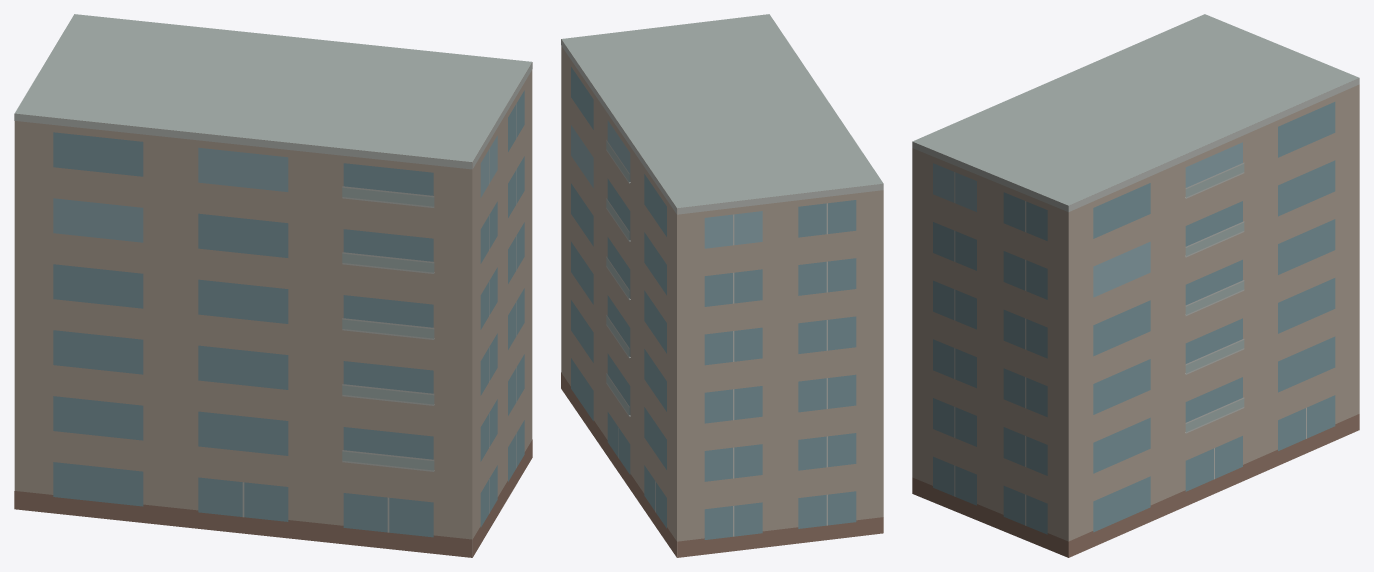
The model's file is survey-upis-32892569.glb.
The picture shows the model from 3 angles, left to right: view 1: azimuth 30°, elevation 25°; view 2: azimuth 150°, elevation 25°; view 3: azimuth 270°, elevation 25°; orthographic projection. The views are drawn at different scales.
Parts seen in each view (by area): view 1: survey-upis-32892569.tmp; view 2: survey-upis-32892569.tmp; view 3: survey-upis-32892569.tmp.
Part boxes in pixels (x1,y1,x2,y2): survey-upis-32892569.tmp: (14,14,532,557); survey-upis-32892569.tmp: (561,14,883,557); survey-upis-32892569.tmp: (912,14,1359,557).
Bounding box in the file's own units: 15.42 × 13.2 × 15.21.
